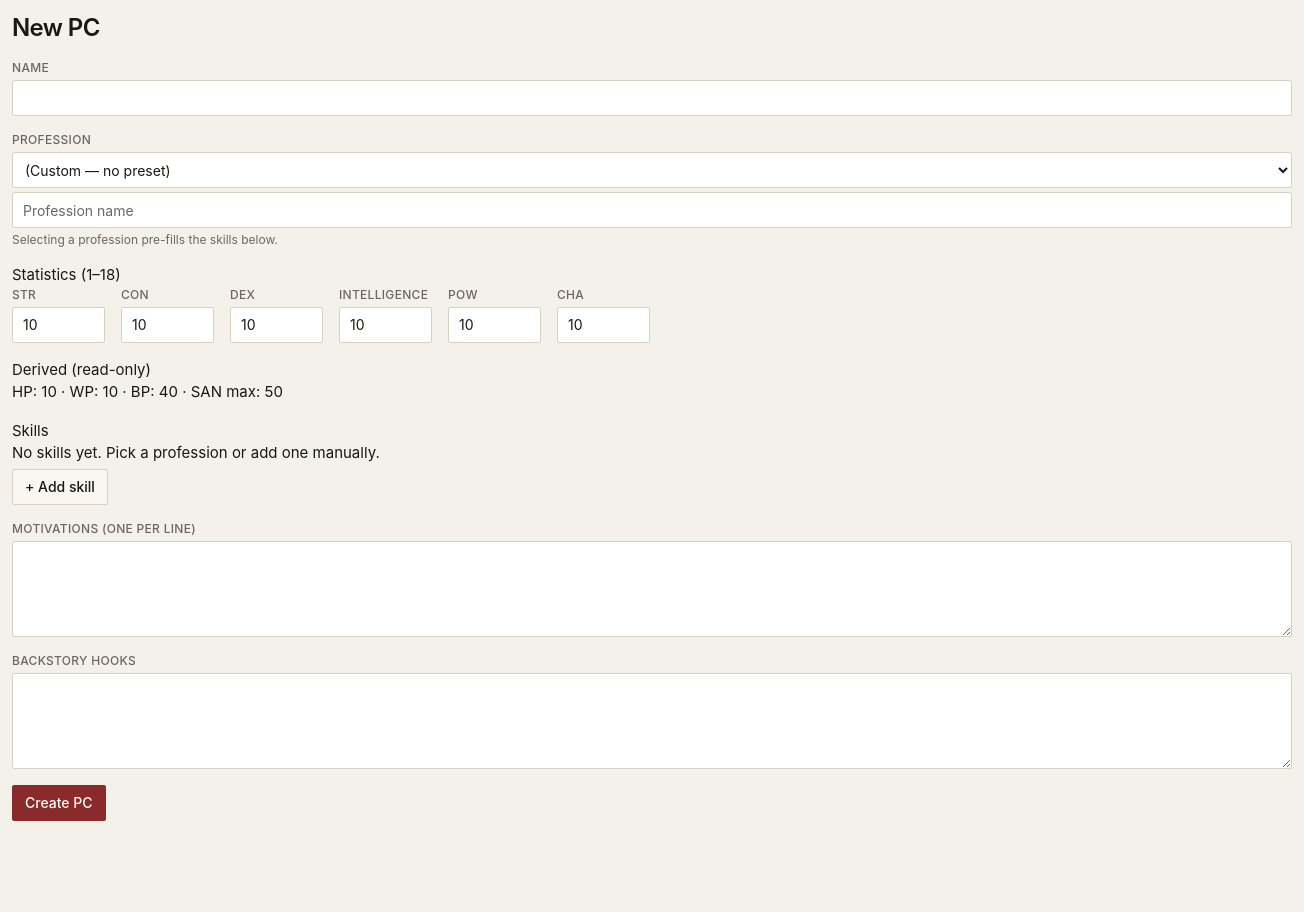
Test case: NewPcPage › renders defaults and recomputes derived HP when stats change
The width and height of the screenshot is (1304, 912).
Expected: the heading "New PC" is shown, [12, 13, 100, 42]
Expected: the text with test id "derived-hp" reads "10", [41, 382, 57, 401]
Type "Test Agent" into the field labelled "Name" at (652, 98), box [12, 80, 1292, 116]
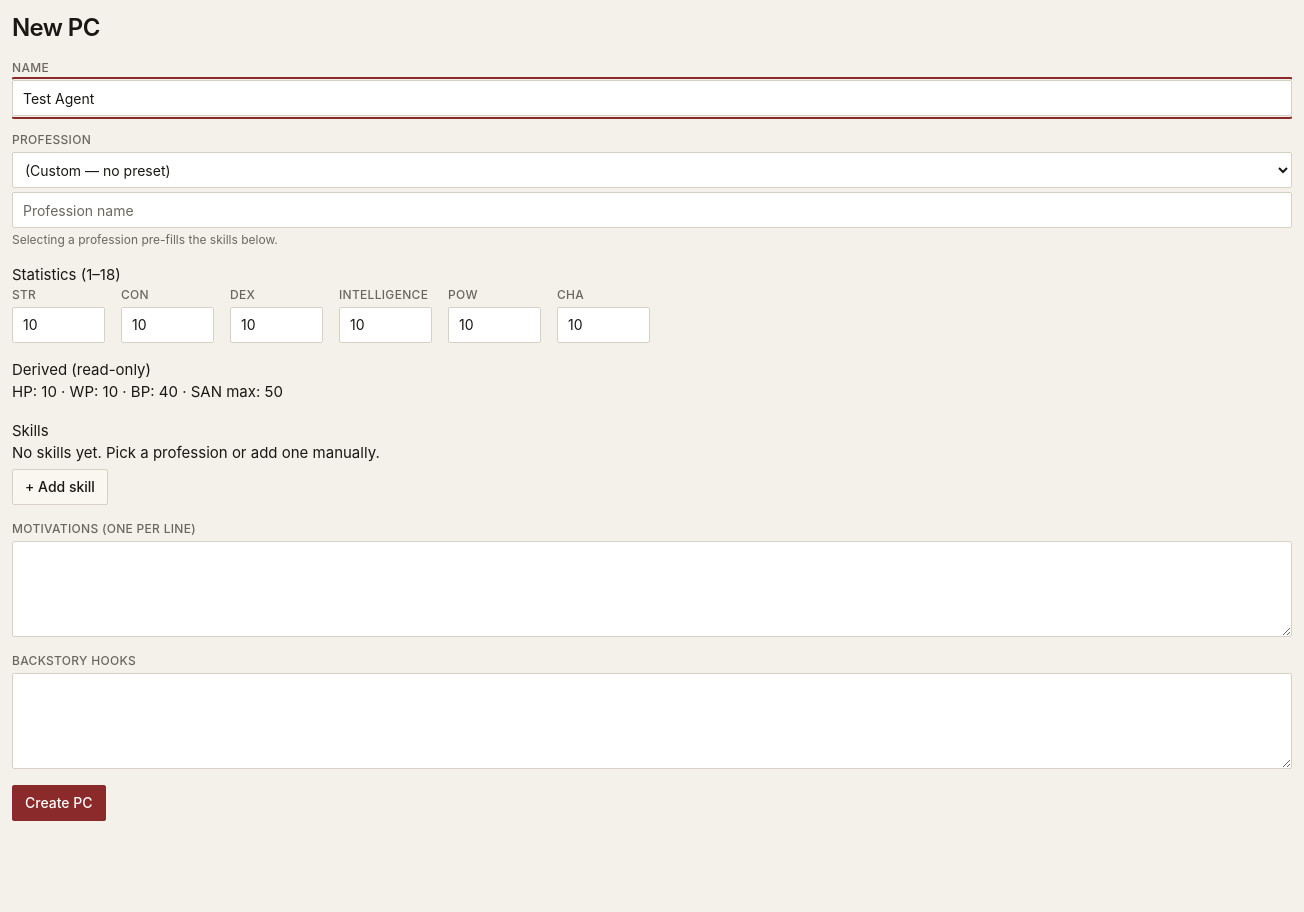
Replace the text in the number field labelled "STR" with "16" at (58, 324), box [12, 306, 105, 342]
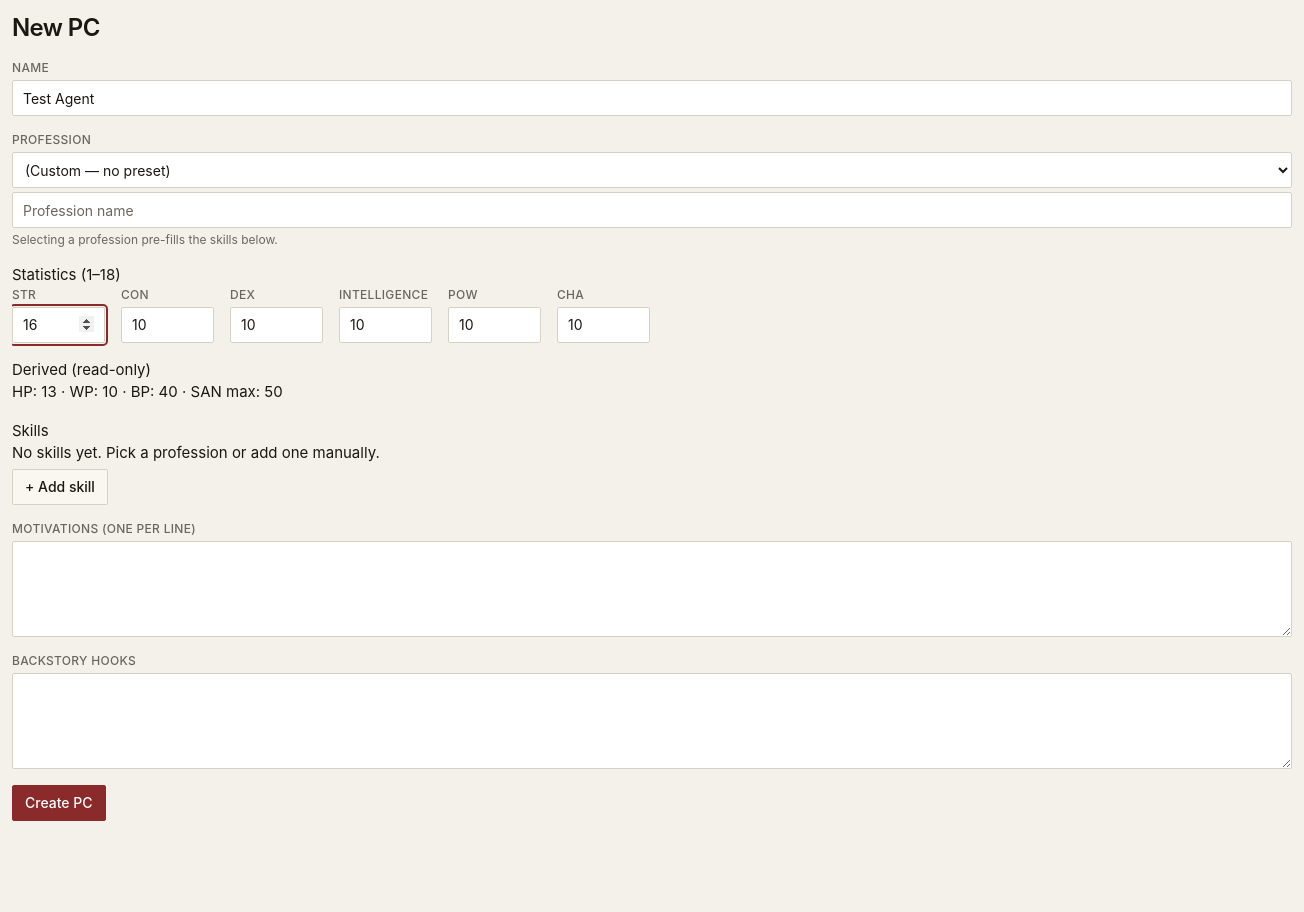
Replace the text in the number field labelled "CON" with "14" at (168, 324), box [121, 306, 214, 342]
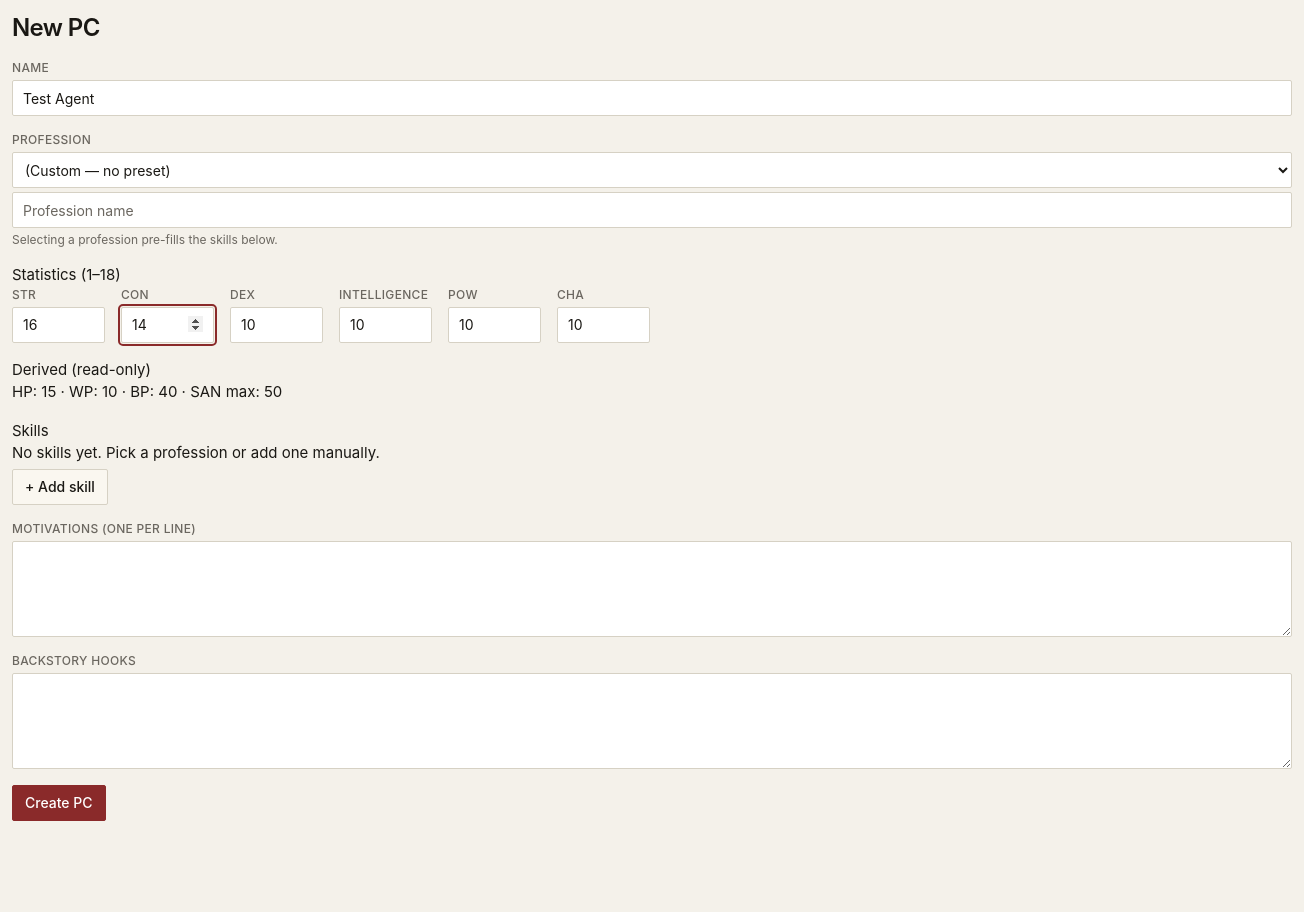
Now the text with test id "derived-hp" reads "15", box [41, 382, 56, 401]
